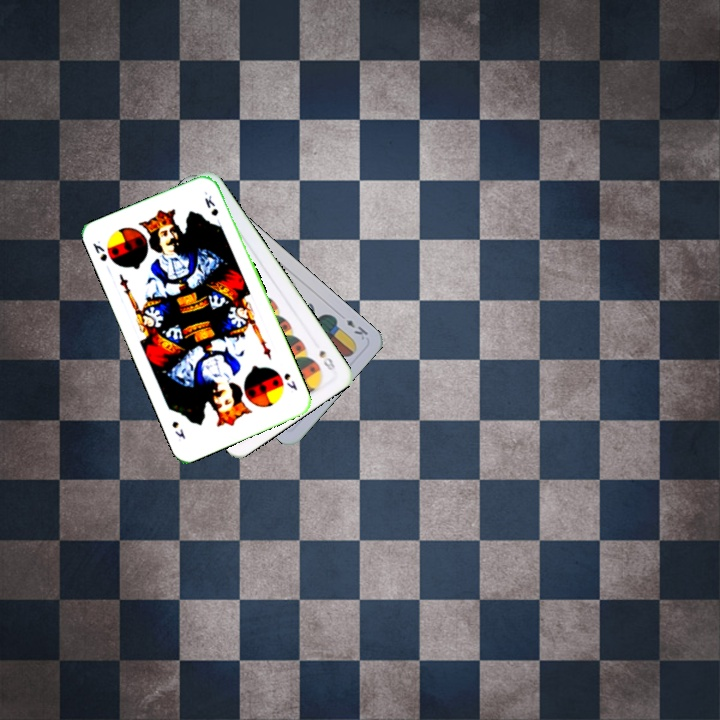EK: (342, 316, 371, 343)
S8: (315, 346, 338, 373)
SK: (89, 236, 110, 264), (280, 369, 300, 393)
